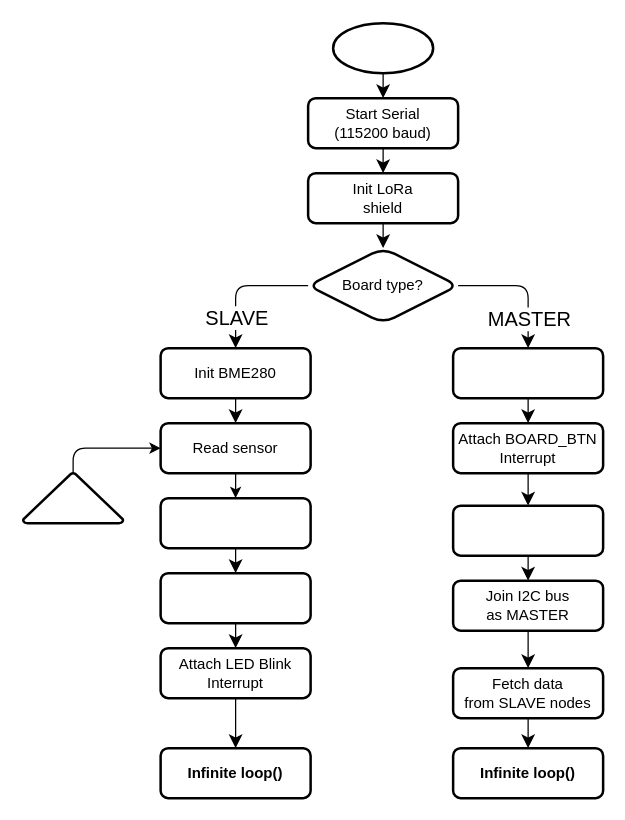
Image size: 625x820. Some labels were removed from this diagram. The centre of each missing label's shape, as x and y in pixels:
"BME280" goes at pixel 72 497.
"Init I2C" goes at pixel 527 530.
"Make request codes array" goes at pixel 527 372.
"Set BUILTIN_LED to OUTPUT mode" goes at pixel 235 597.
"START" goes at pixel 382 47.
"Update buffer" goes at pixel 235 522.
